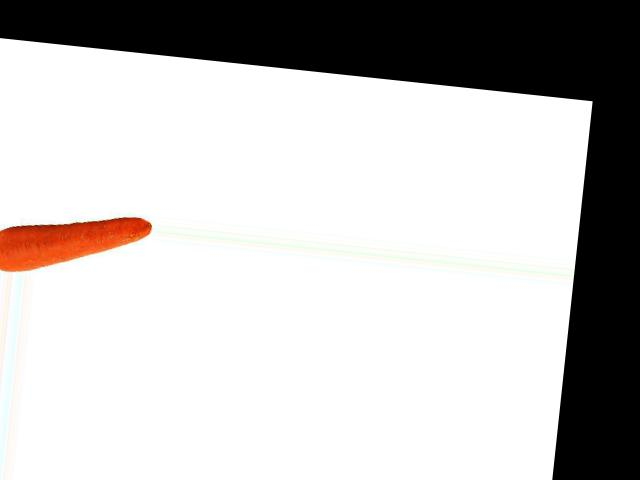carrot: (13, 198, 156, 286)
